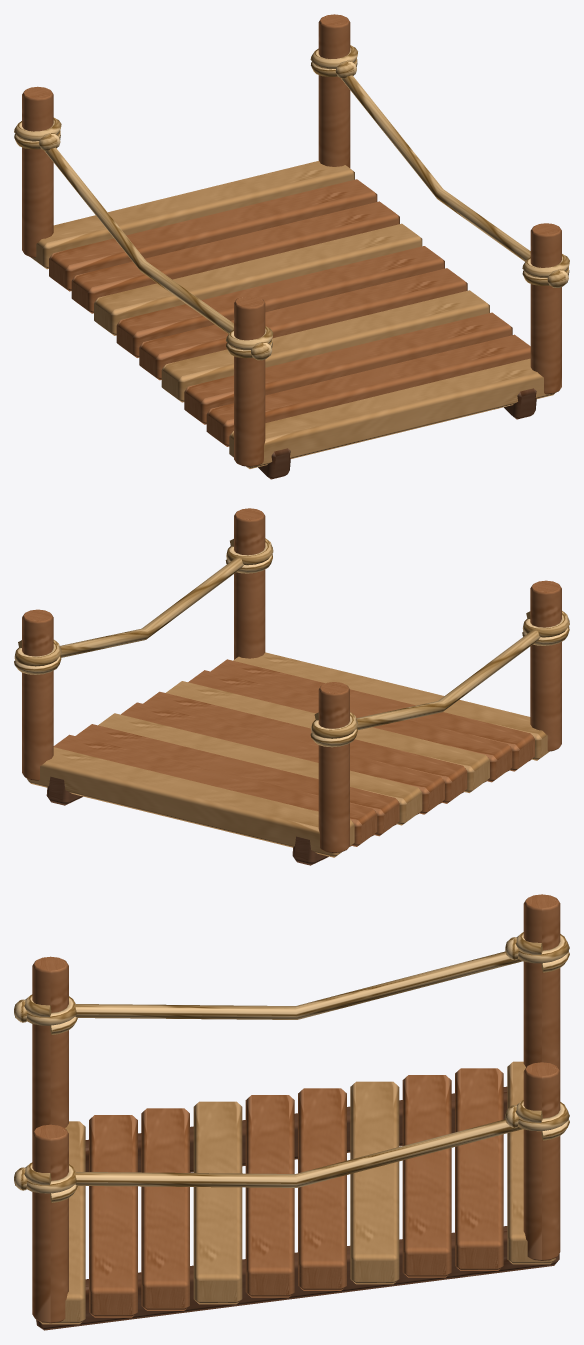
Rendered from SM_Gangway.glb.
3 renders of one model, top to bottom at view 1: azimuth 30°, elevation 25°; view 2: azimuth 150°, elevation 25°; view 3: azimuth 270°, elevation 25°, orthographic. The views are drawn at different scales.
Visible parts, largest first — view 1: SM_Gangway; view 2: SM_Gangway; view 3: SM_Gangway.
Part boxes in pixels (x1,y1,x2,y2): SM_Gangway: (14, 14, 569, 479); SM_Gangway: (14, 508, 569, 865); SM_Gangway: (14, 894, 569, 1330).
Size of the model in its own units: 1.73 by 1.15 by 2.13.
Materials: 1 (1 with a texture image).
